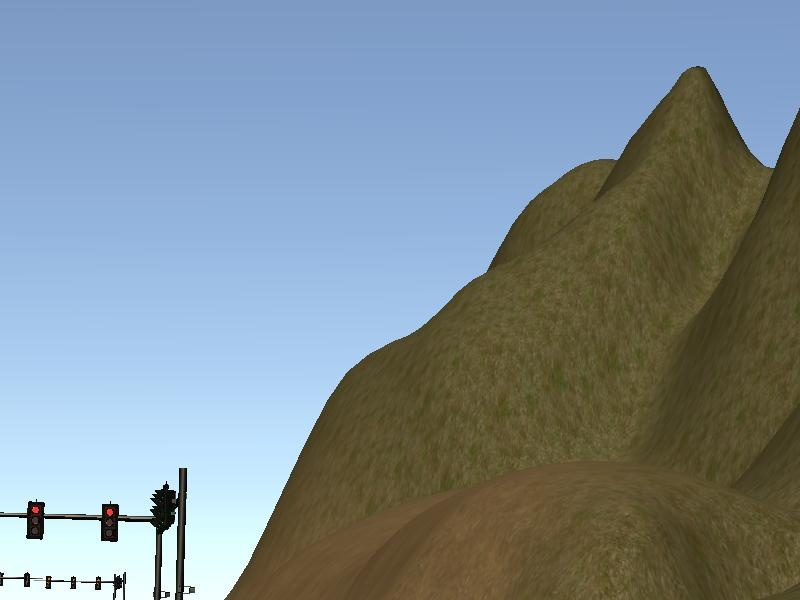red: (19, 500, 48, 547), (96, 500, 124, 547)
